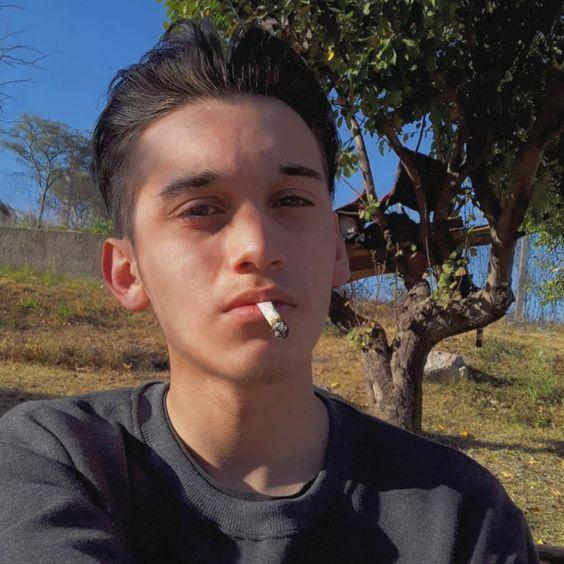cigarette: (255, 300, 289, 339)
